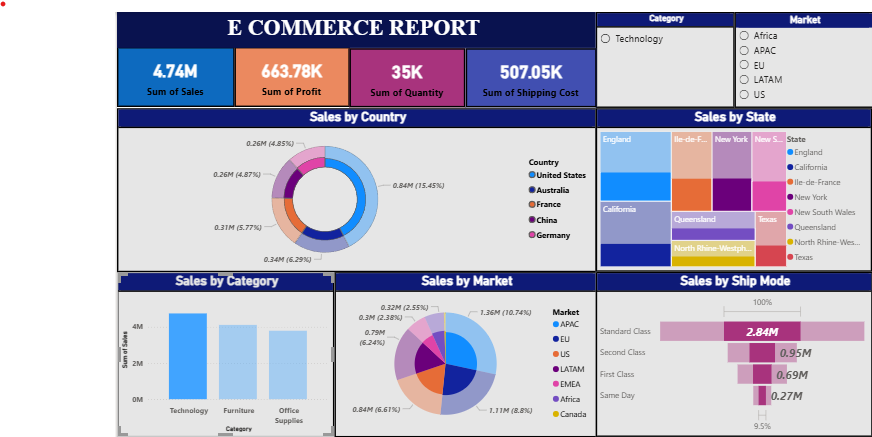

Layout of this report page (visuals, bound fields, positions):
{"tool":"powerbi","page":{"name":"Page 1","canvas":[1280,720],"ordinal":0},"visuals":[{"type":"columnChart","title":"Sales by Category","fields":{"Category":["Orders.Category"],"Y":["Sum(Orders.Sales)"]},"box":[0,440.5,367.8,279.9],"z":0},{"type":"pieChart","title":"Sales by Market","fields":{"Category":["Orders.Market"],"Y":["Sum(Orders.Sales)"]},"box":[367.8,440.5,444.6,279.9],"z":1000},{"type":"funnel","title":"Sales by Ship Mode","fields":{"Category":["Orders.Ship Mode"],"Y":["Sum(Orders.Sales)"]},"box":[811.6,440.7,468.6,279.1],"z":2000},{"type":"donutChart","title":"Sales by Country","fields":{"Category":["Orders.Country"],"Y":["Sum(Orders.Sales)"]},"box":[0,162.8,811.6,277.9],"z":3000},{"type":"listSlicer","box":[1045.6,0,234.6,163.3],"z":4000},{"type":"listSlicer","fields":{"Values":["Orders.Market"]},"box":[1045.4,0,234.9,162.8],"z":5000},{"type":"listSlicer","fields":{"Values":["Orders.Category"]},"box":[811.6,0,234.9,162.8],"z":6000},{"type":"treemap","title":"Sales by State","fields":{"Values":["Sum(Orders.Sales)"],"Group":["Orders.State"]},"box":[811,163.3,467.9,277.2],"z":7000},{"type":"card","fields":{"Values":["Sum(Orders.Sales)"]},"box":[0,60.1,198.9,101.5],"z":8000},{"type":"card","fields":{"Values":["Sum(Orders.Profit)"]},"box":[198.9,60.1,194.9,101.5],"z":9000},{"type":"card","fields":{"Values":["Sum(Orders.Quantity)"]},"box":[393.8,61.4,196.2,100.1],"z":10000},{"type":"card","fields":{"Values":["Sum(Orders.Shipping Cost)"]},"box":[590.1,61.4,221.6,100.1],"z":11000},{"type":"textbox","box":[0,0,810.6,61],"z":12000}]}

Visuals, with their boxes in screenshot pixels (x1, y1, x2, y2):
"Sales by Category" columnChart: <region>111, 270, 331, 436</region>
"Sales by Market" pieChart: <region>331, 270, 596, 436</region>
"Sales by Ship Mode" funnel: <region>596, 270, 871, 436</region>
"Sales by Country" donutChart: <region>111, 104, 596, 270</region>
listSlicer: <region>736, 7, 871, 104</region>
listSlicer - Orders.Market: <region>736, 7, 871, 104</region>
listSlicer - Orders.Category: <region>596, 7, 736, 104</region>
"Sales by State" treemap: <region>596, 104, 871, 270</region>
card - Sum(Orders.Sales): <region>111, 43, 230, 103</region>
card - Sum(Orders.Profit): <region>230, 43, 346, 103</region>
card - Sum(Orders.Quantity): <region>346, 43, 464, 103</region>
card - Sum(Orders.Shipping Cost): <region>464, 43, 596, 103</region>
textbox: <region>111, 7, 595, 43</region>
